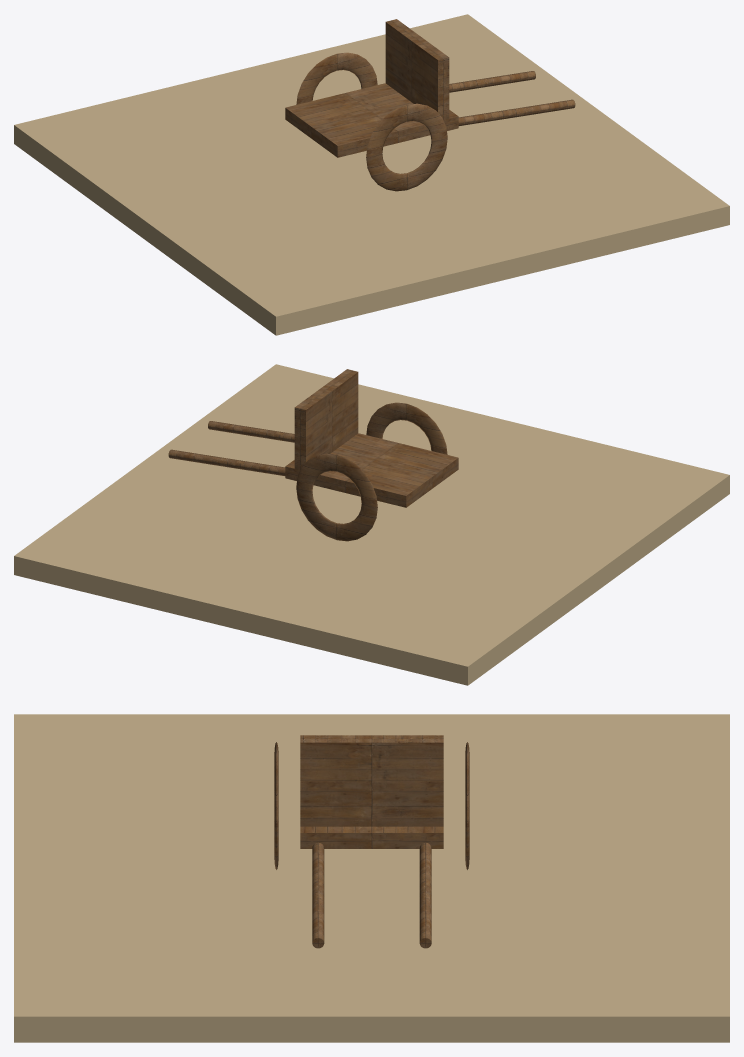
The model's file is carro.glb.
The picture shows the model from 3 angles, top to bottom: view 1: azimuth 30°, elevation 25°; view 2: azimuth 150°, elevation 25°; view 3: azimuth 270°, elevation 25°; orthographic projection. The views are drawn at different scales.
Parts seen in each view (by area): view 1: Base ilustrativa, Plataforma, Anteparo, Roda.001, Roda, Timão.001, Timão; view 2: Base ilustrativa, Plataforma, Anteparo, Roda, Roda.001, Timão, Timão.001; view 3: Base ilustrativa, Anteparo, Plataforma, Timão, Timão.001, Roda, Roda.001.
Boxes of the visible parts, x1,y1,x2,y2 form: Base ilustrativa: (14,14,729,335); Plataforma: (285,83,458,157); Anteparo: (385,19,449,124); Roda.001: (366,103,447,191); Roda: (296,52,377,104); Timão.001: (458,99,575,125); Timão: (449,71,535,92); Base ilustrativa: (14,364,729,685); Plataforma: (285,433,458,507); Anteparo: (294,369,358,470); Roda: (296,453,377,541); Roda.001: (366,402,447,454); Timão: (168,449,285,475); Timão.001: (208,421,294,442); Base ilustrativa: (14,714,729,1042); Anteparo: (300,735,443,826); Plataforma: (300,826,443,848); Timão: (419,842,431,948); Timão.001: (312,842,324,948); Roda: (465,742,469,869); Roda.001: (274,742,278,869).
Bounding box in the file's own units: 6 × 1.69 × 6.
2 materials, 1 textured.
